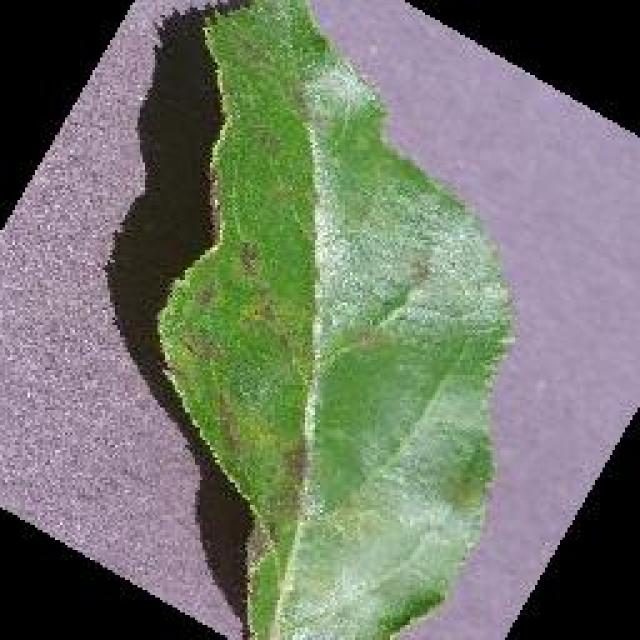apple scab disease: (150, 0, 518, 638)
